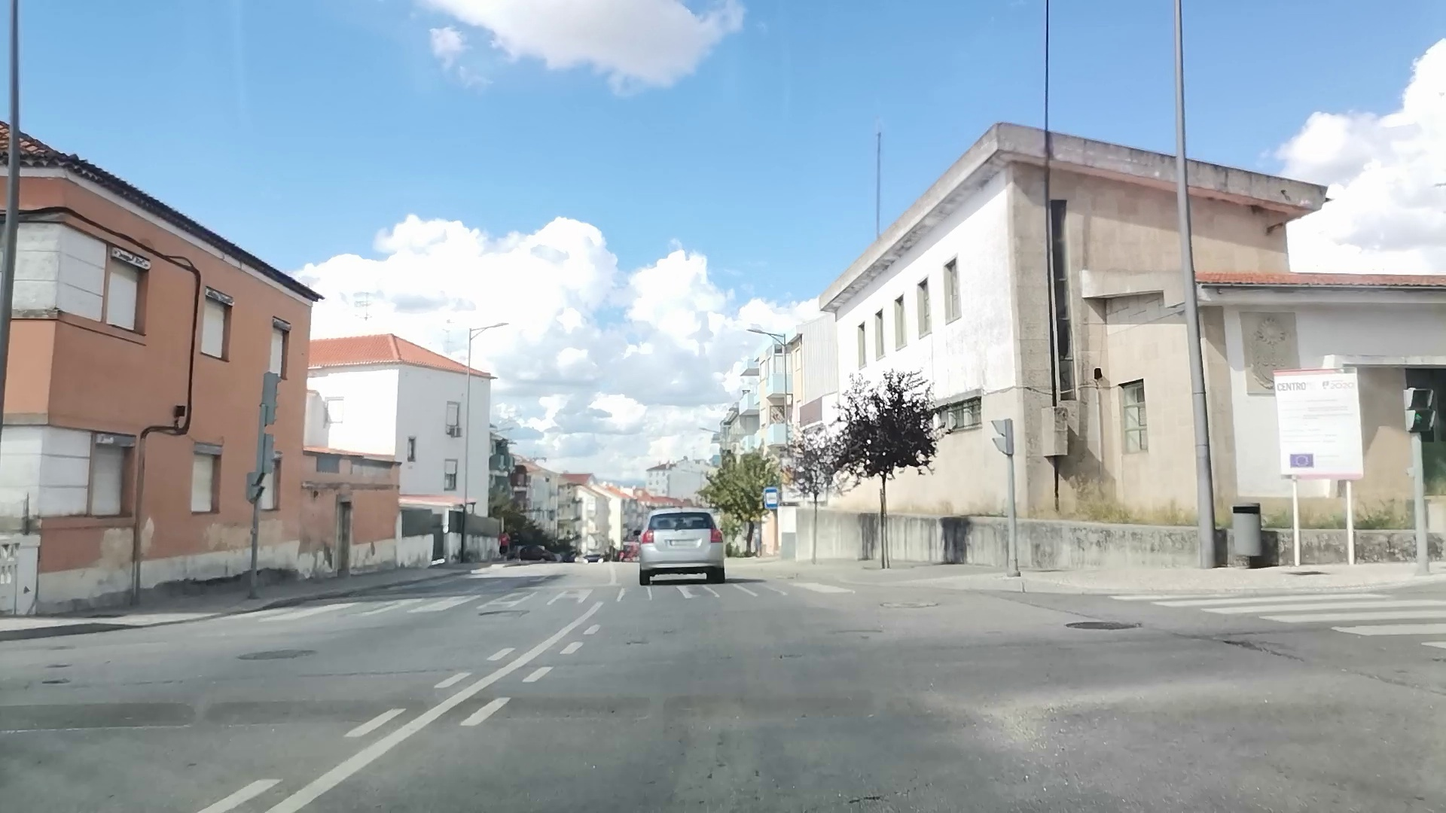Stairs: (231, 577, 856, 622)
